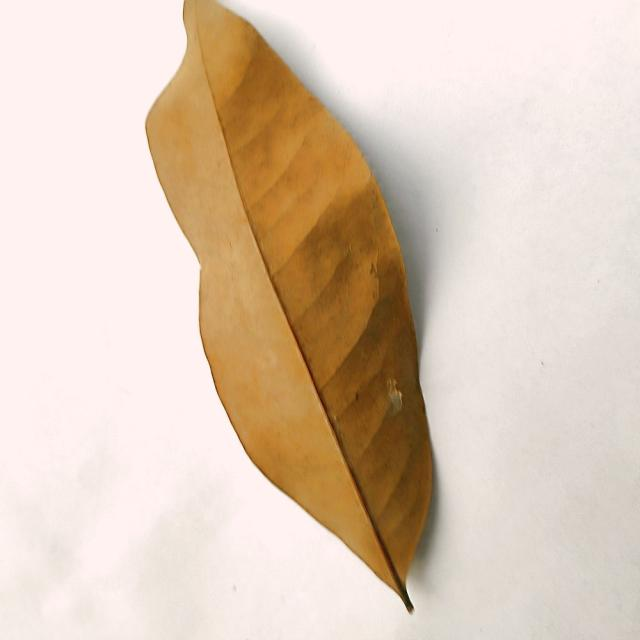Dry_Leaf-Lychee: (145, 0, 437, 610)
